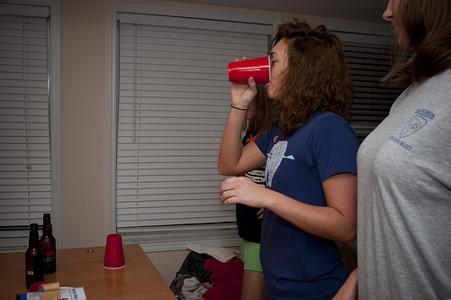person: (214, 18, 359, 300)
